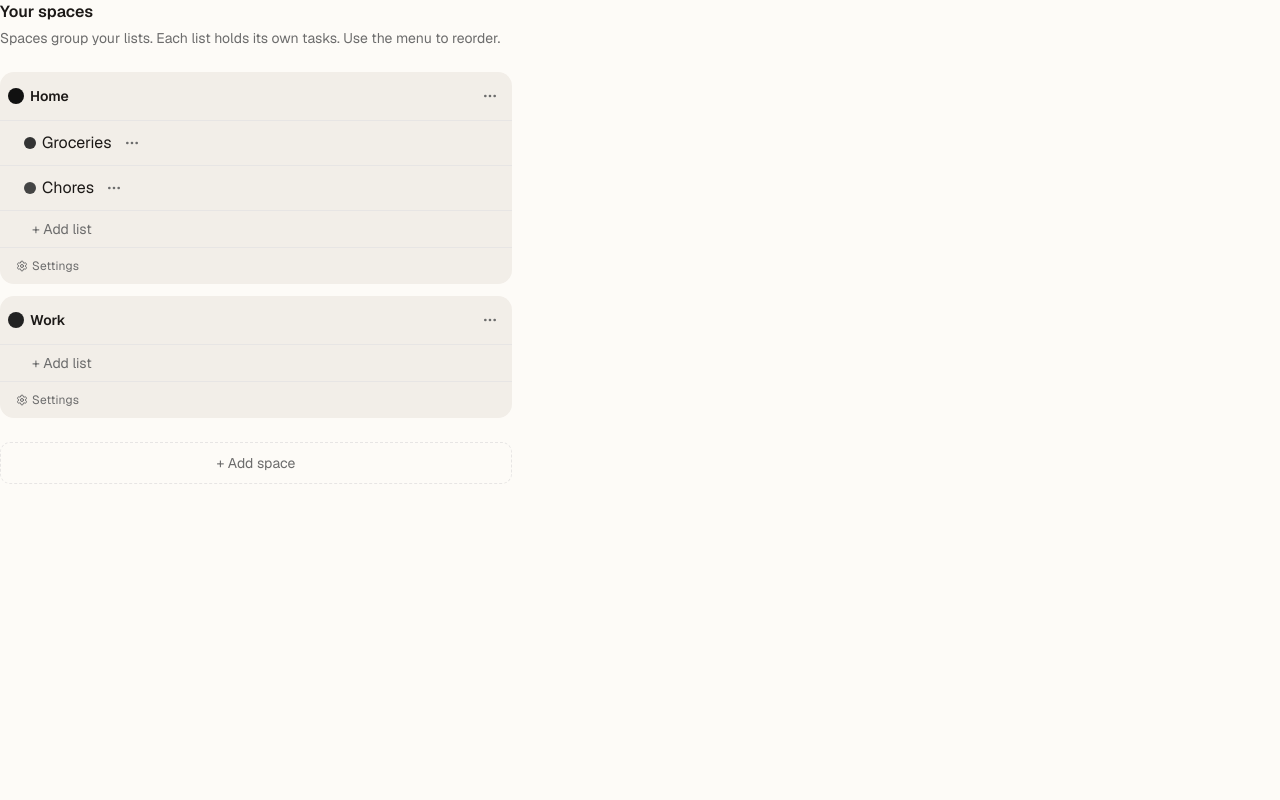
Scenario: SpaceListManager delete and leave › asks before deleting a space and counts its lists and tasks from the cache
Step 1. Press the mouse on the button named "More actions for Home" → (490, 96), box [476,82,504,110]
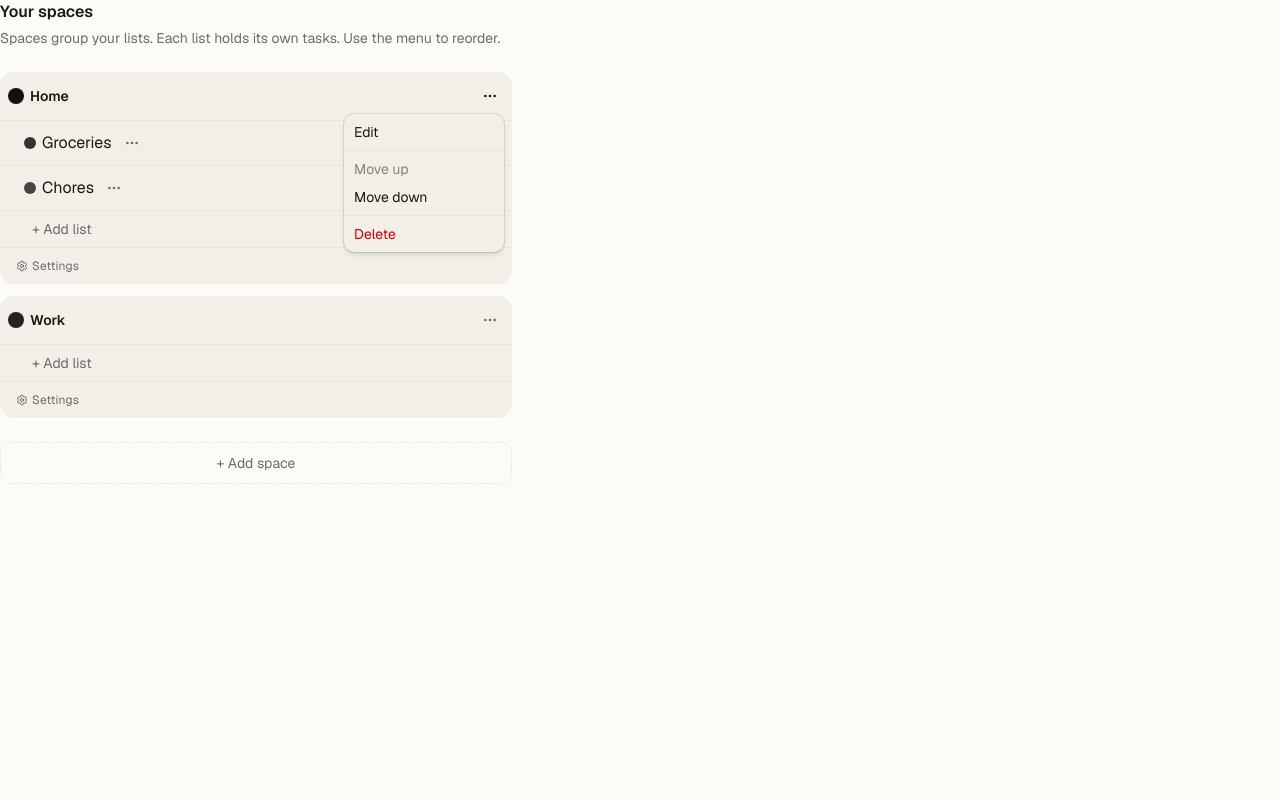
Step 2. Click the menu item "Delete" → (375, 234), box [354,225,396,243]
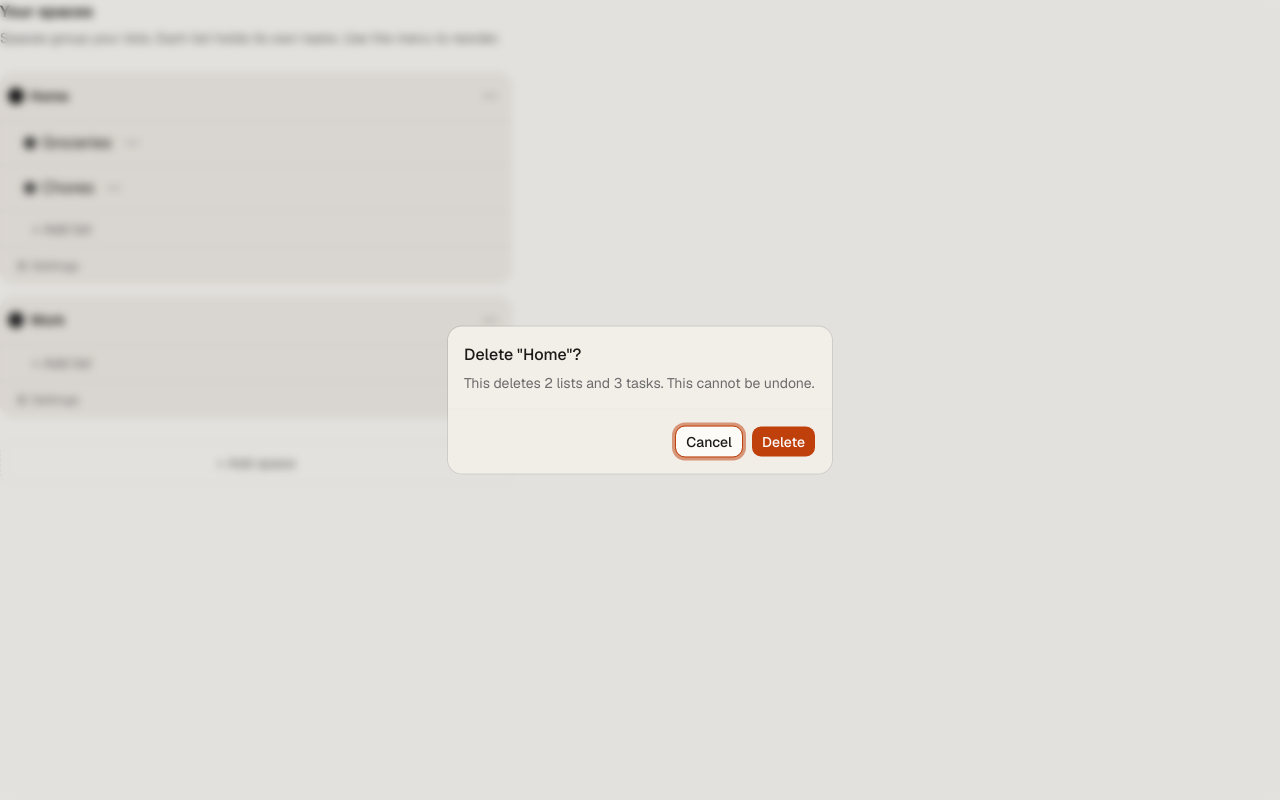
Check: the heading "Delete \"Home\"?" is shown, box [464,342,581,366]
Check: the text "This deletes 2 lists and 3 tasks. This cannot be undone." is shown, box [464,372,814,392]
